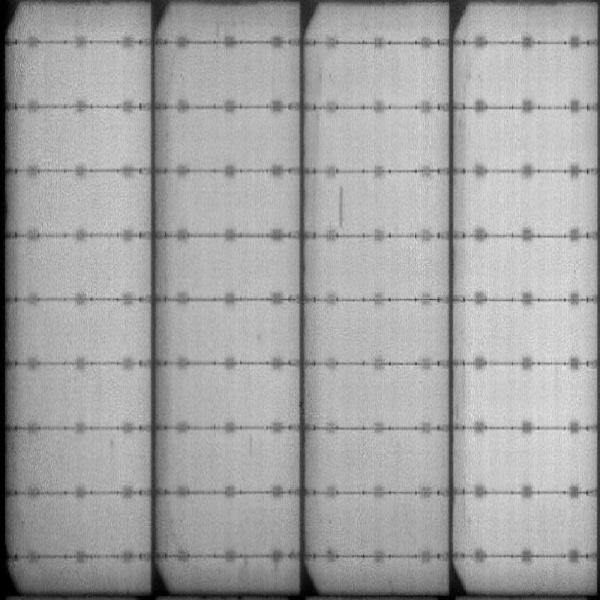scratch: (336, 186, 348, 230)
